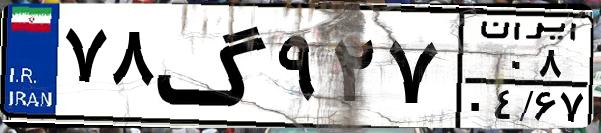0: (508, 27, 537, 80), (470, 70, 495, 125)
2: (330, 28, 385, 110)
4: (495, 70, 520, 125)
6: (535, 70, 560, 125)
7: (385, 28, 445, 110), (57, 26, 110, 100), (560, 70, 590, 125)
8: (110, 28, 156, 98), (537, 27, 568, 80)
9: (270, 28, 330, 110)
گ: (156, 12, 270, 120)
